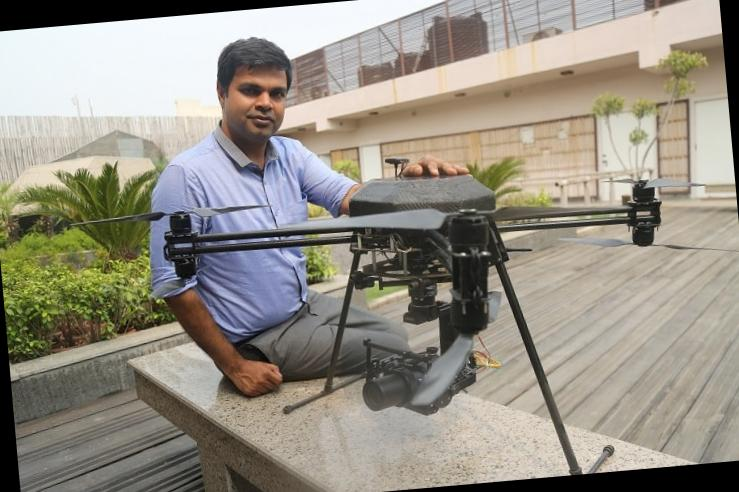drone: (73, 141, 728, 395)
